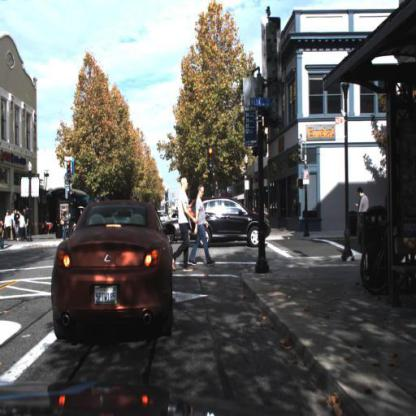car: (51, 200, 174, 335), (191, 197, 271, 249), (156, 204, 184, 246)
pedestrian: (189, 182, 216, 268), (173, 177, 194, 273), (357, 186, 371, 259), (356, 186, 371, 252), (17, 207, 25, 242), (14, 210, 22, 239), (26, 208, 32, 240), (4, 213, 11, 238), (15, 207, 20, 238)
trafficLight-Red: (207, 145, 215, 169), (67, 161, 72, 177)
